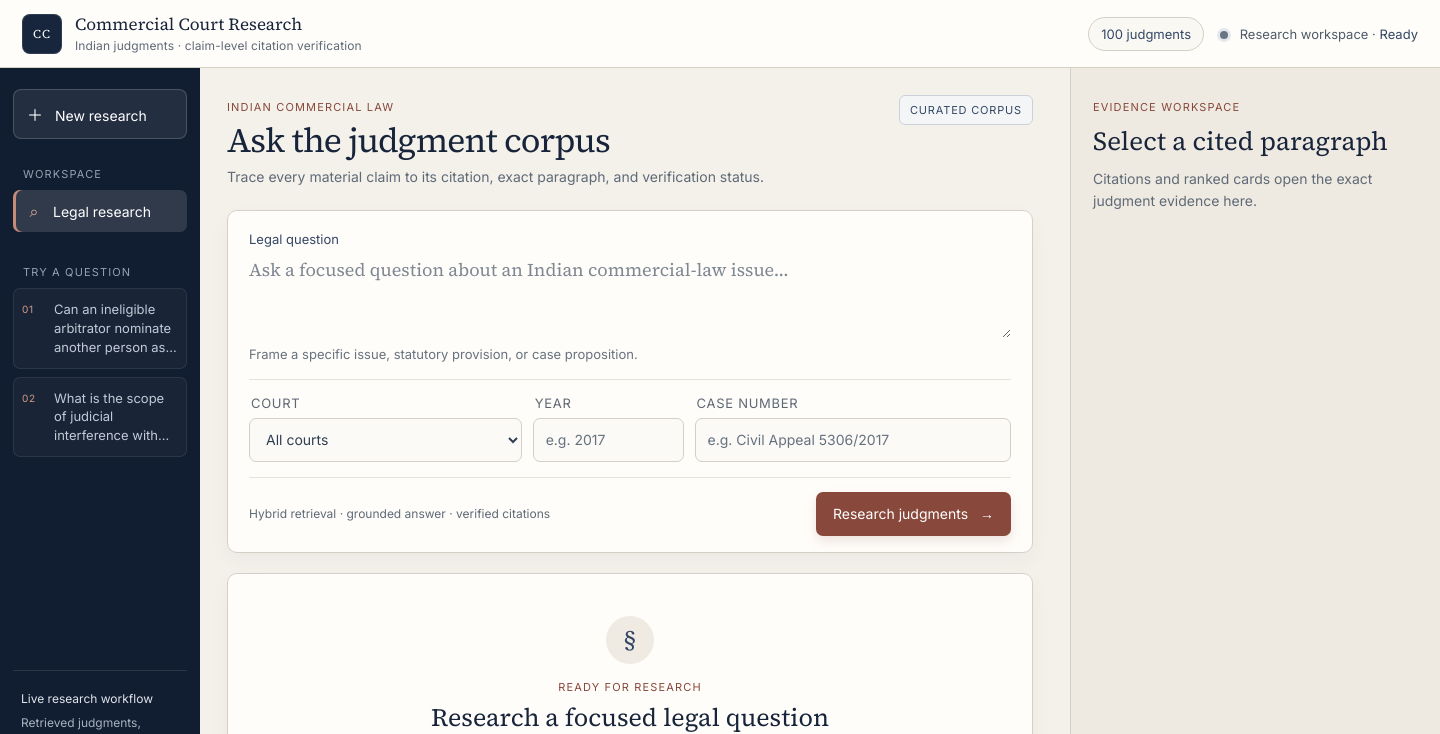
it: ResearchWorkspace live API boundary › omits empty optional filters from the request
The width and height of the screenshot is (1440, 734).
Type "Can an ineligible arbitrator nominate another person as arbitrator?" into the text box labelled "Legal question".
click(630, 297); type("Can an ineligible arbitrator nominate another person as arbitrator?")  # box [249,256,1011,338]
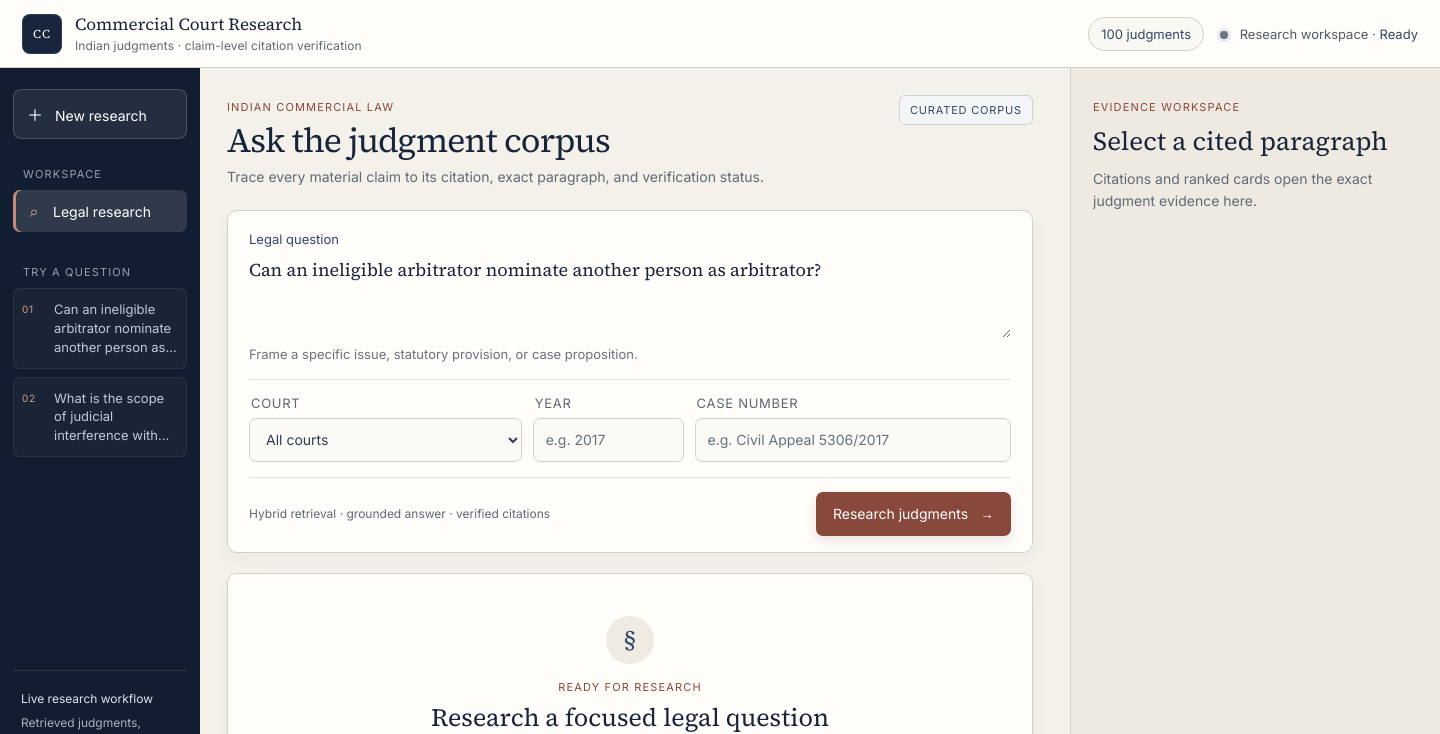
Click the button "Research judgments →".
click(913, 514)  # box [816,492,1011,536]
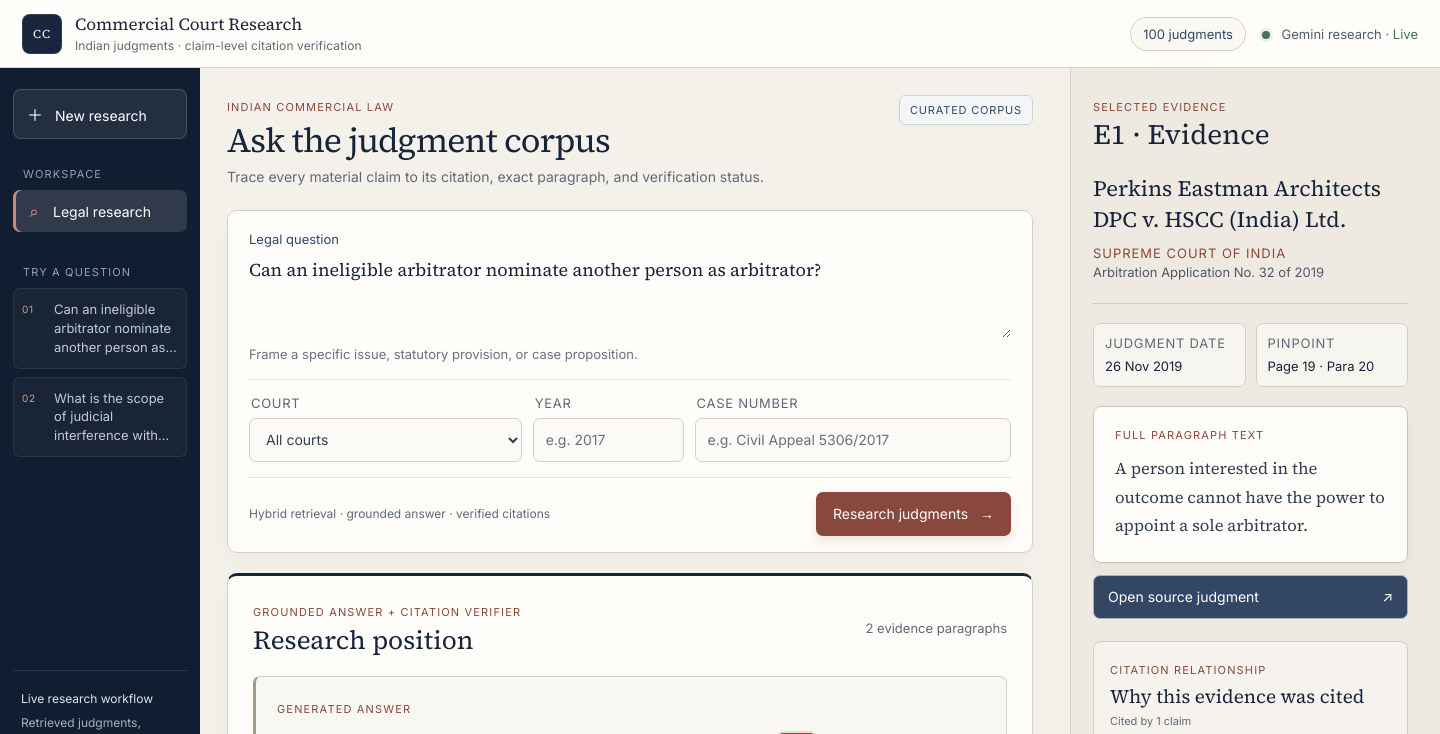
Expected: the heading "Research position" is shown, [253,622,474,658]
